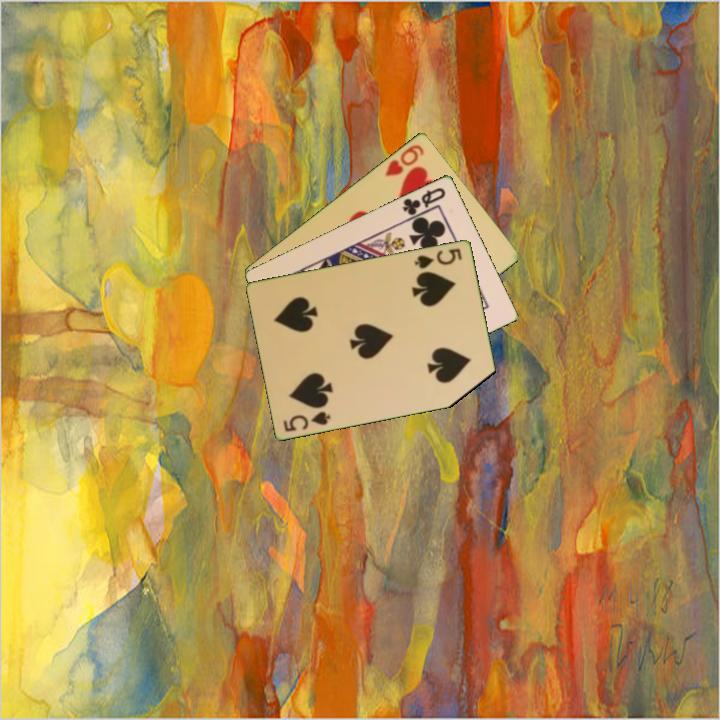5s: (280, 407, 333, 434), (411, 245, 465, 271)
6h: (381, 140, 427, 179)
Qc: (399, 183, 449, 222)
